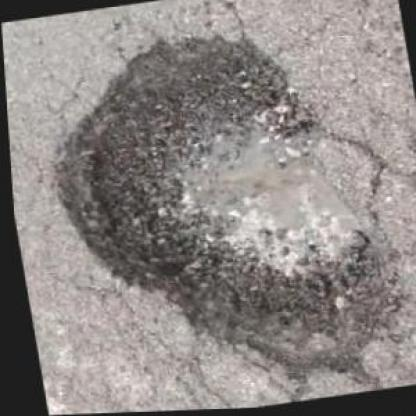pothole: (18, 6, 415, 414)
